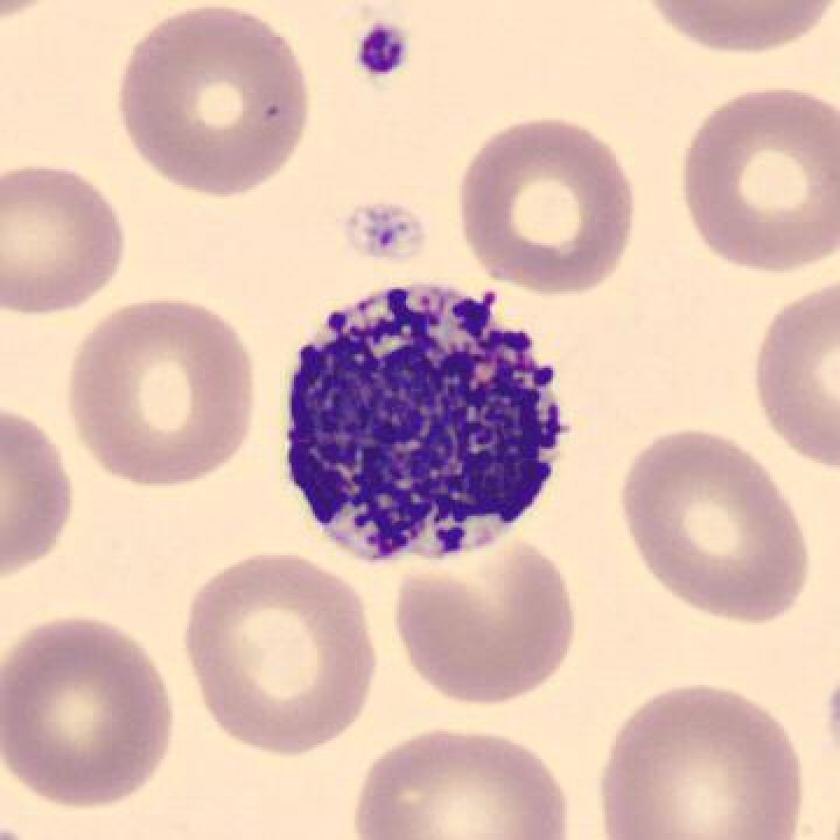basophil: (274, 286, 570, 566)
